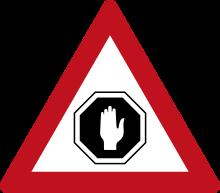Stop: (29, 31, 206, 183)
